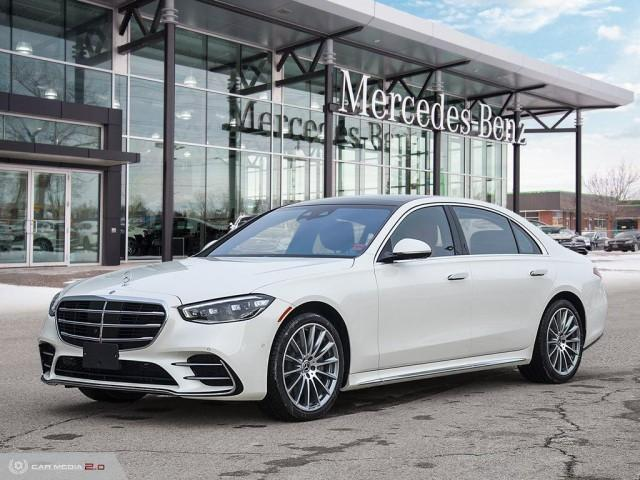benz: (36, 193, 608, 420)
